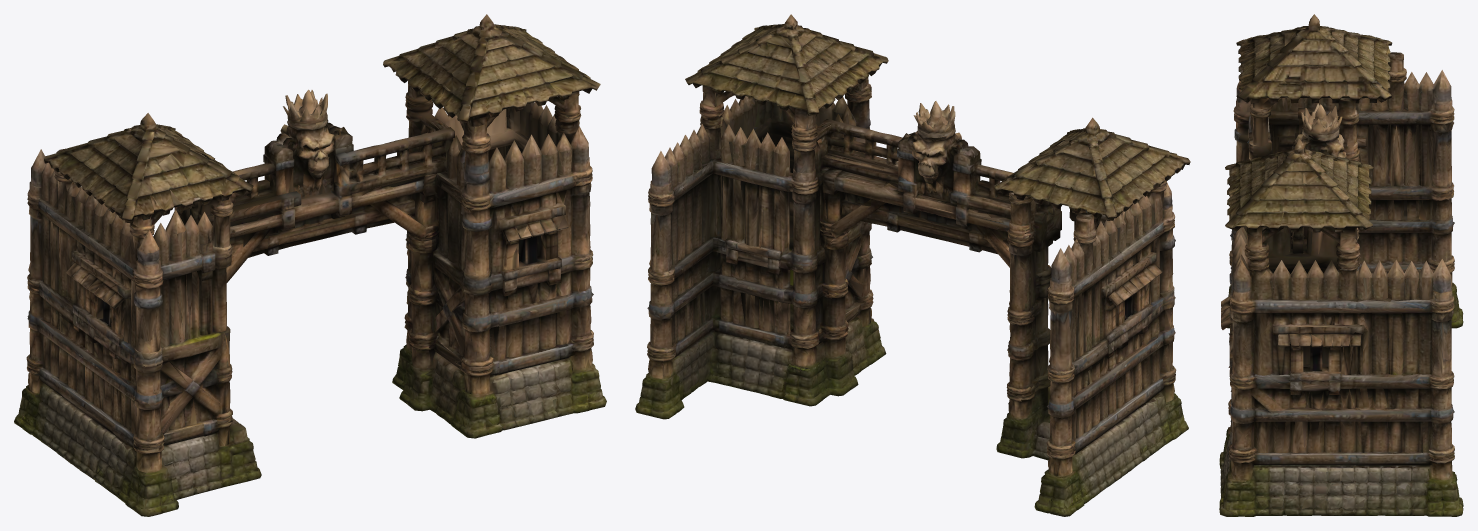
3 renders of one model, left to right at view 1: azimuth 30°, elevation 25°; view 2: azimuth 150°, elevation 25°; view 3: azimuth 270°, elevation 25°, orthographic. The views are drawn at different scales.
Parts seen in each view (by area): view 1: node_0; view 2: node_0; view 3: node_0.
Boxes of the visible parts, <box> form: node_0: <box>14,14,606,516</box>; node_0: <box>635,14,1190,516</box>; node_0: <box>1219,14,1463,516</box>.
Size of the model in its own units: 0.9003 by 0.6854 by 0.4415.
1 material, 1 textured.
